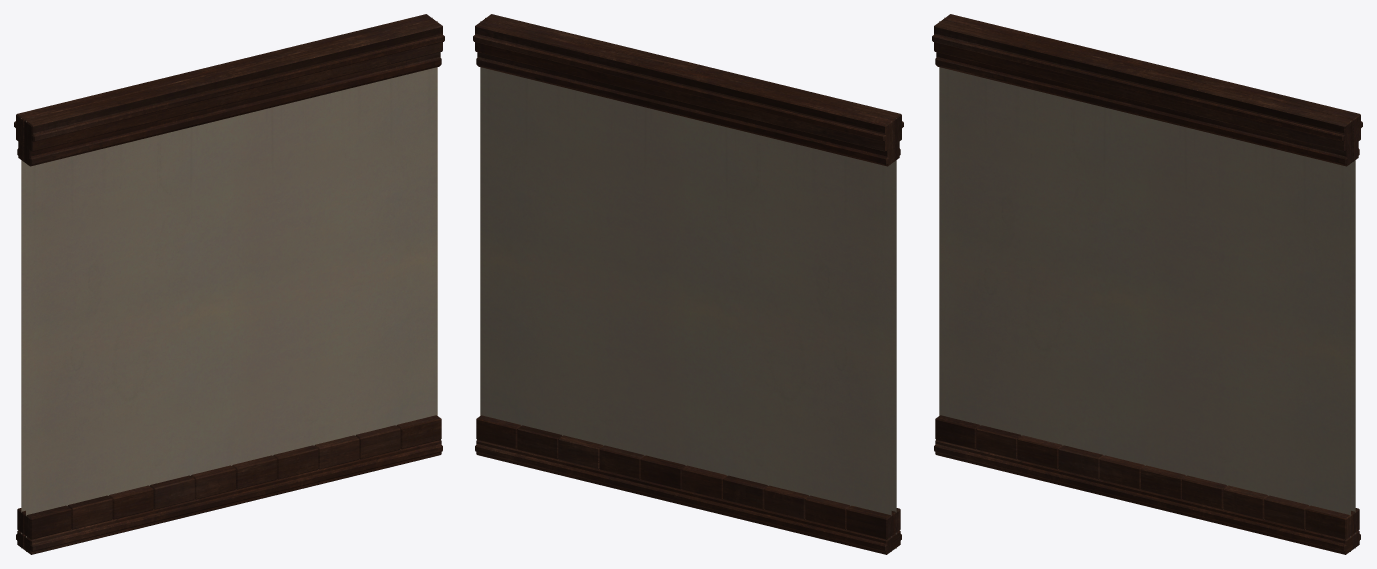
Rendered from SK3 WALL 2 INTERIOR.fbx.
3 views of the same model, side by side, from view 1: azimuth 30°, elevation 25°; view 2: azimuth 150°, elevation 25°; view 3: azimuth 330°, elevation 25° (orthographic).
Visible parts, largest first — view 1: SK3 WALL 2 INTERIOR; view 2: SK3 WALL 2 INTERIOR; view 3: SK3 WALL 2 INTERIOR.
Boxes of the visible parts, x1=… form: SK3 WALL 2 INTERIOR: x1=14, y1=14, x2=444, y2=554; SK3 WALL 2 INTERIOR: x1=473, y1=14, x2=903, y2=554; SK3 WALL 2 INTERIOR: x1=932, y1=14, x2=1362, y2=554.
Size of the model in its own units: 400 by 400 by 34.27.
